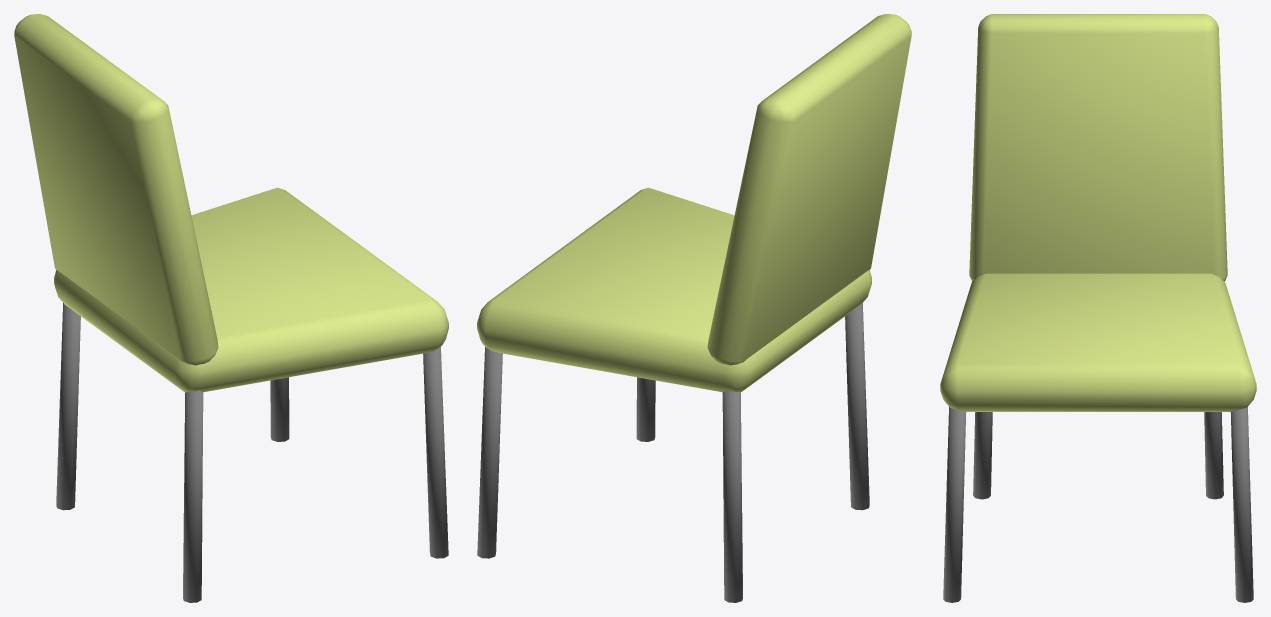
File: kitchen_chair.dae
3 views of the same model, side by side, from view 1: azimuth 30°, elevation 25°; view 2: azimuth 150°, elevation 25°; view 3: azimuth 270°, elevation 25° (orthographic). The views are drawn at different scales.
Parts seen in each view (by area): view 1: kitchen_chair; view 2: kitchen_chair; view 3: kitchen_chair.
Boxes of the visible parts, box(x1,y1,x2,y2) form: kitchen_chair: box(14, 14, 448, 602); kitchen_chair: box(477, 14, 911, 602); kitchen_chair: box(940, 14, 1256, 602).
Bounding box in the file's own units: 0.5307 × 0.5301 × 0.8565.
